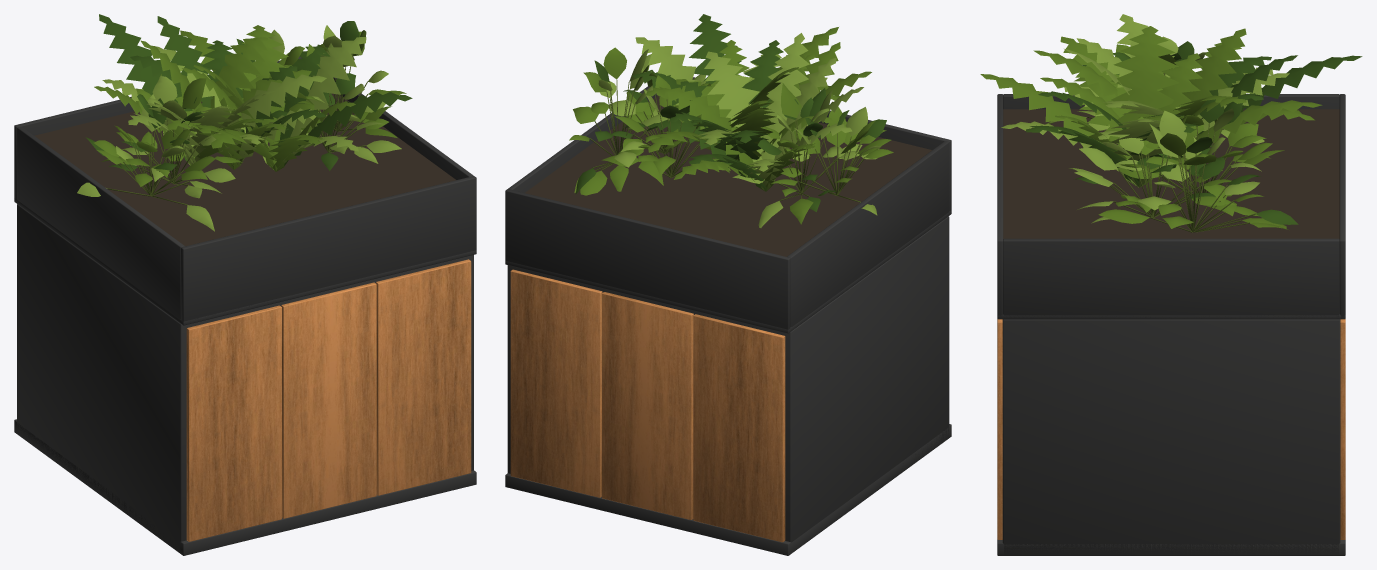
File: greenery.low-partition-with-planter.glb
3 renders of one model, left to right at view 1: azimuth 30°, elevation 25°; view 2: azimuth 150°, elevation 25°; view 3: azimuth 270°, elevation 25°, orthographic. The views are drawn at different scales.
Parts seen in each view (by area): view 1: greenery.low-partition-with-planter.001; view 2: greenery.low-partition-with-planter.001; view 3: greenery.low-partition-with-planter.001.
Part boxes in pixels (x1=…): greenery.low-partition-with-planter.001: x1=14, y1=14, x2=476, y2=555; greenery.low-partition-with-planter.001: x1=505, y1=14, x2=951, y2=555; greenery.low-partition-with-planter.001: x1=980, y1=14, x2=1362, y2=555.
Bounding box in the file's own units: 1.32 × 1.62 × 1.32.
7 materials, 1 textured.
